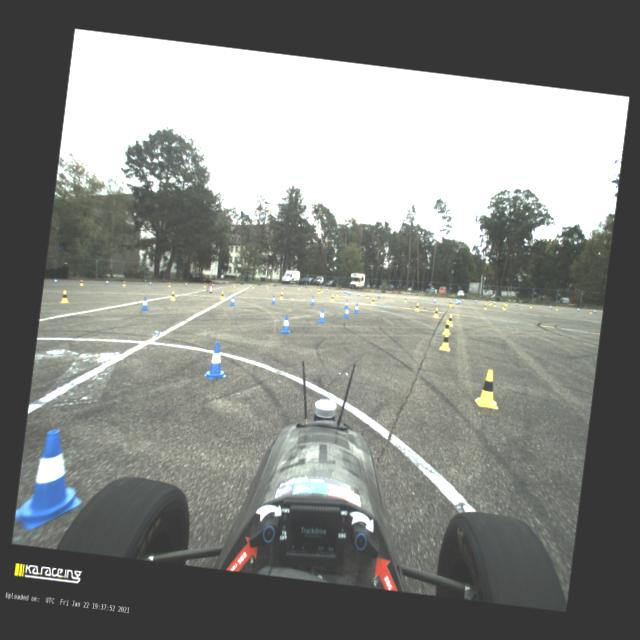blue_cone: (15, 426, 90, 534), (202, 341, 230, 382), (280, 314, 293, 334), (316, 308, 326, 324), (140, 296, 150, 310), (228, 294, 236, 306), (342, 306, 350, 318), (353, 302, 359, 314), (343, 298, 349, 309), (270, 294, 276, 304), (310, 296, 316, 305), (576, 306, 580, 312), (148, 280, 152, 286), (54, 278, 58, 283), (454, 300, 458, 304), (592, 308, 595, 313), (433, 298, 436, 303), (377, 293, 380, 298), (356, 291, 359, 296), (105, 279, 108, 284), (184, 282, 187, 286), (549, 304, 551, 309), (455, 298, 457, 302), (458, 300, 460, 304), (462, 298, 464, 302), (474, 299, 476, 303), (348, 290, 350, 294), (346, 290, 348, 294), (345, 289, 347, 293), (343, 288, 345, 292), (516, 302, 518, 306), (326, 287, 328, 291), (250, 284, 252, 288), (212, 282, 214, 286), (339, 288, 340, 292), (301, 286, 302, 289), (265, 284, 266, 287), (314, 287, 314, 290), (284, 285, 284, 288)
yellow_cone: (473, 367, 503, 410), (438, 330, 452, 352), (59, 289, 71, 304), (442, 319, 452, 335), (432, 306, 440, 318), (169, 290, 177, 301), (448, 314, 454, 326), (278, 290, 284, 300), (414, 302, 420, 312), (220, 291, 226, 300), (370, 297, 375, 305), (79, 278, 84, 286), (330, 294, 334, 302), (483, 302, 487, 310), (448, 300, 452, 307), (502, 304, 506, 311), (122, 280, 126, 286), (366, 292, 370, 298), (588, 308, 592, 314), (317, 288, 320, 294), (403, 296, 406, 302), (505, 300, 508, 306), (203, 282, 206, 287), (488, 300, 491, 305), (529, 303, 532, 308), (555, 305, 558, 310), (168, 282, 171, 286), (336, 290, 338, 296), (494, 300, 496, 306), (502, 302, 504, 308), (233, 284, 235, 288), (266, 284, 268, 288), (316, 288, 318, 292), (490, 300, 492, 304), (320, 288, 322, 292), (310, 286, 312, 290), (298, 286, 300, 290), (282, 285, 283, 288), (252, 284, 252, 288), (322, 288, 322, 292)
